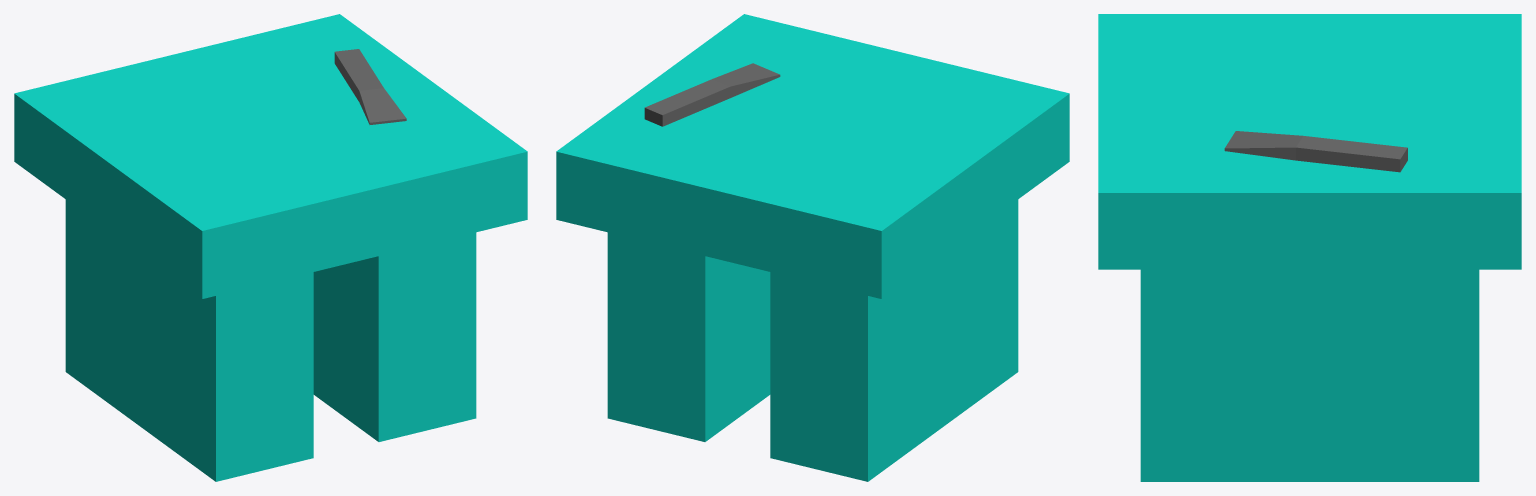
File: Workbench_Chisel.fbx
3 renders of one model, left to right at view 1: azimuth 30°, elevation 25°; view 2: azimuth 150°, elevation 25°; view 3: azimuth 270°, elevation 25°, orthographic. The views are drawn at different scales.
Parts seen in each view (by area): view 1: Box001, Box002; view 2: Box001, Box002; view 3: Box001, Box002.
Boxes of the visible parts, x1,y1,x2,y2 form: Box001: (14, 14, 527, 481); Box002: (334, 49, 406, 124); Box001: (556, 14, 1069, 481); Box002: (644, 63, 780, 126); Box001: (1098, 14, 1521, 481); Box002: (1224, 131, 1407, 172).
Size of the model in its own units: 39.37 by 32.99 by 39.37.
